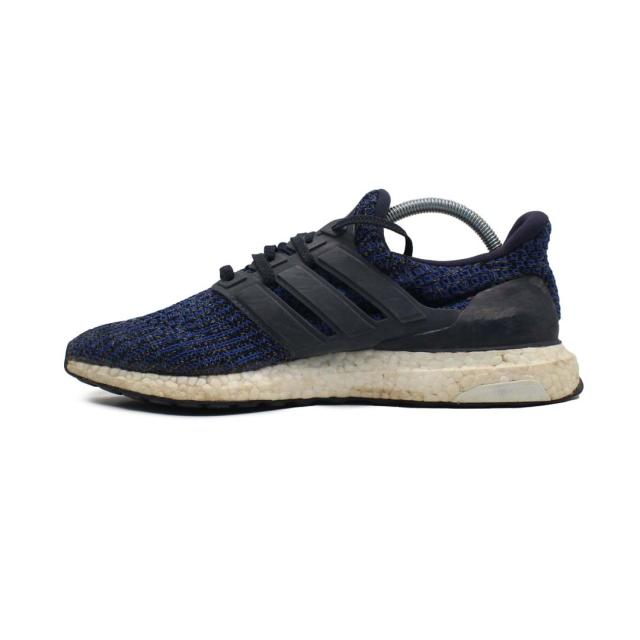heel: (508, 210, 561, 346)
midsole: (66, 337, 583, 409)
uppersole: (72, 189, 517, 376)
